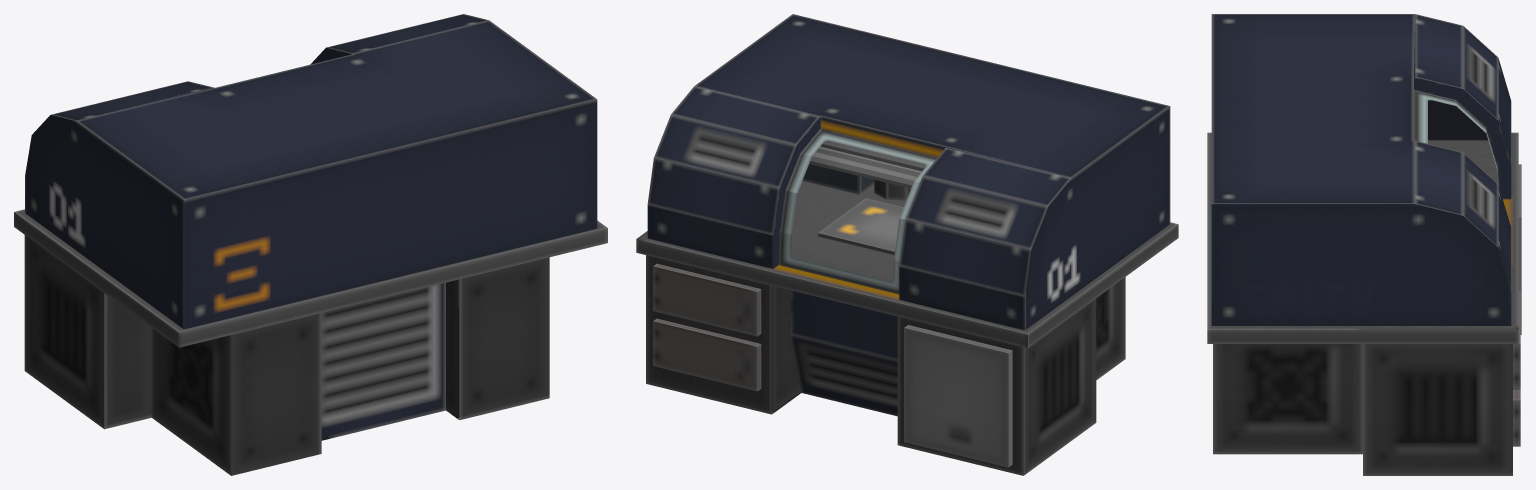
The model's file is screw_lathe.obj.
3 views of the same model, side by side, from view 1: azimuth 30°, elevation 25°; view 2: azimuth 150°, elevation 25°; view 3: azimuth 270°, elevation 25° (orthographic). The views are drawn at different scales.
Parts seen in each view (by area): view 1: Цилиндр.003_selection, Цилиндр.003; view 2: Цилиндр.003_selection, Цилиндр.003; view 3: Цилиндр.003_selection, Цилиндр.003.
Part boxes in pixels (x1,y1,x2,y2): Цилиндр.003_selection: [25, 14, 597, 329]; Цилиндр.003: [14, 209, 607, 475]; Цилиндр.003_selection: [647, 14, 1170, 330]; Цилиндр.003: [636, 140, 1178, 475]; Цилиндр.003_selection: [1211, 14, 1511, 325]; Цилиндр.003: [1207, 132, 1521, 475].
Bounding box in the file's own units: 3.11 × 2 × 2.09.
